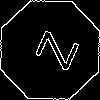Z: (25, 25, 80, 72)
